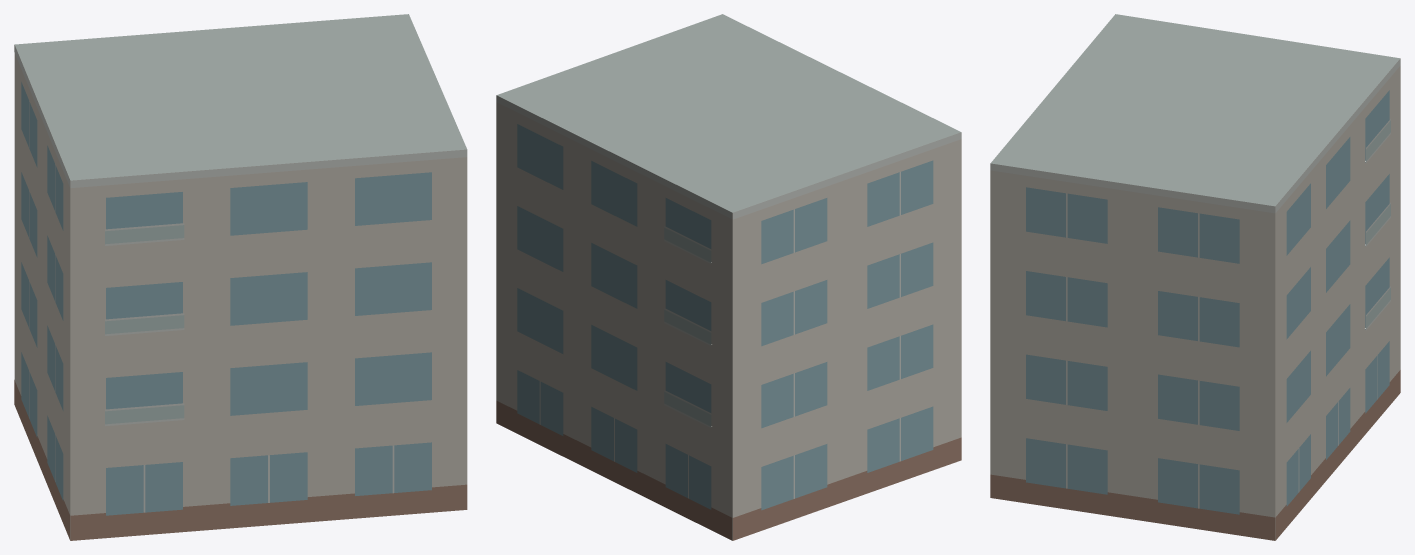
The model's file is survey-upis-32696368.glb.
3 renders of one model, left to right at view 1: azimuth 30°, elevation 25°; view 2: azimuth 150°, elevation 25°; view 3: azimuth 270°, elevation 25°, orthographic. The views are drawn at different scales.
Parts seen in each view (by area): view 1: survey-upis-32696368.tmp; view 2: survey-upis-32696368.tmp; view 3: survey-upis-32696368.tmp.
Boxes of the visible parts, box(x1,y1,x2,y2) form: survey-upis-32696368.tmp: box(14, 14, 467, 540); survey-upis-32696368.tmp: box(496, 14, 961, 540); survey-upis-32696368.tmp: box(990, 14, 1400, 540).
Size of the model in its own units: 14.32 by 11.6 by 12.9.
